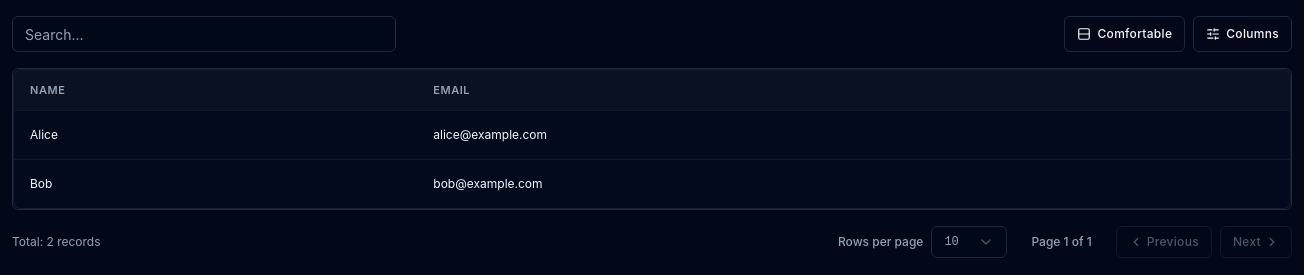
Test: DataTable › filters via searchKey
The image size is (1304, 275).
In the field with placeholder "Search...": (204, 34) x1=12 y1=16 x2=396 y2=52, type "Alice"
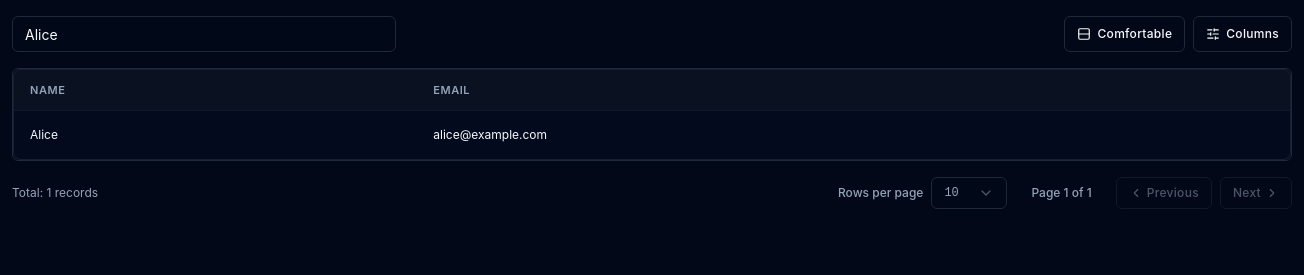
expect the text "Alice" is shown: met, box x1=14 y1=110 x2=417 y2=158
expect the text "Bob" is gone: met
